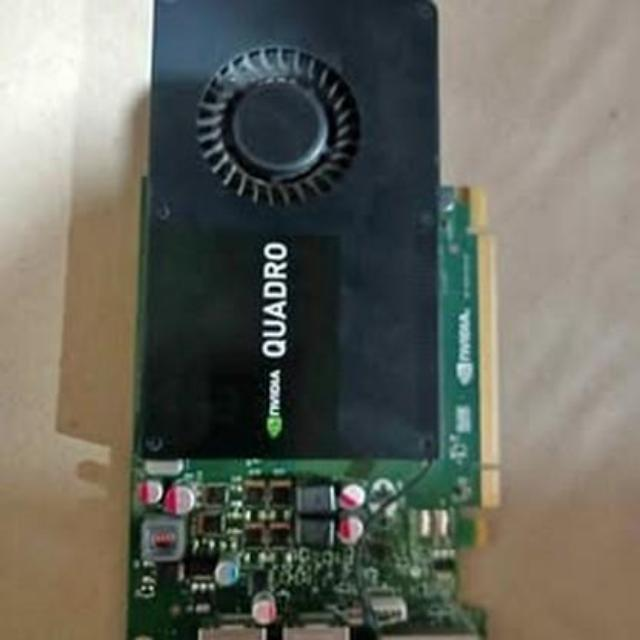GPU: (80, 0, 515, 640)
